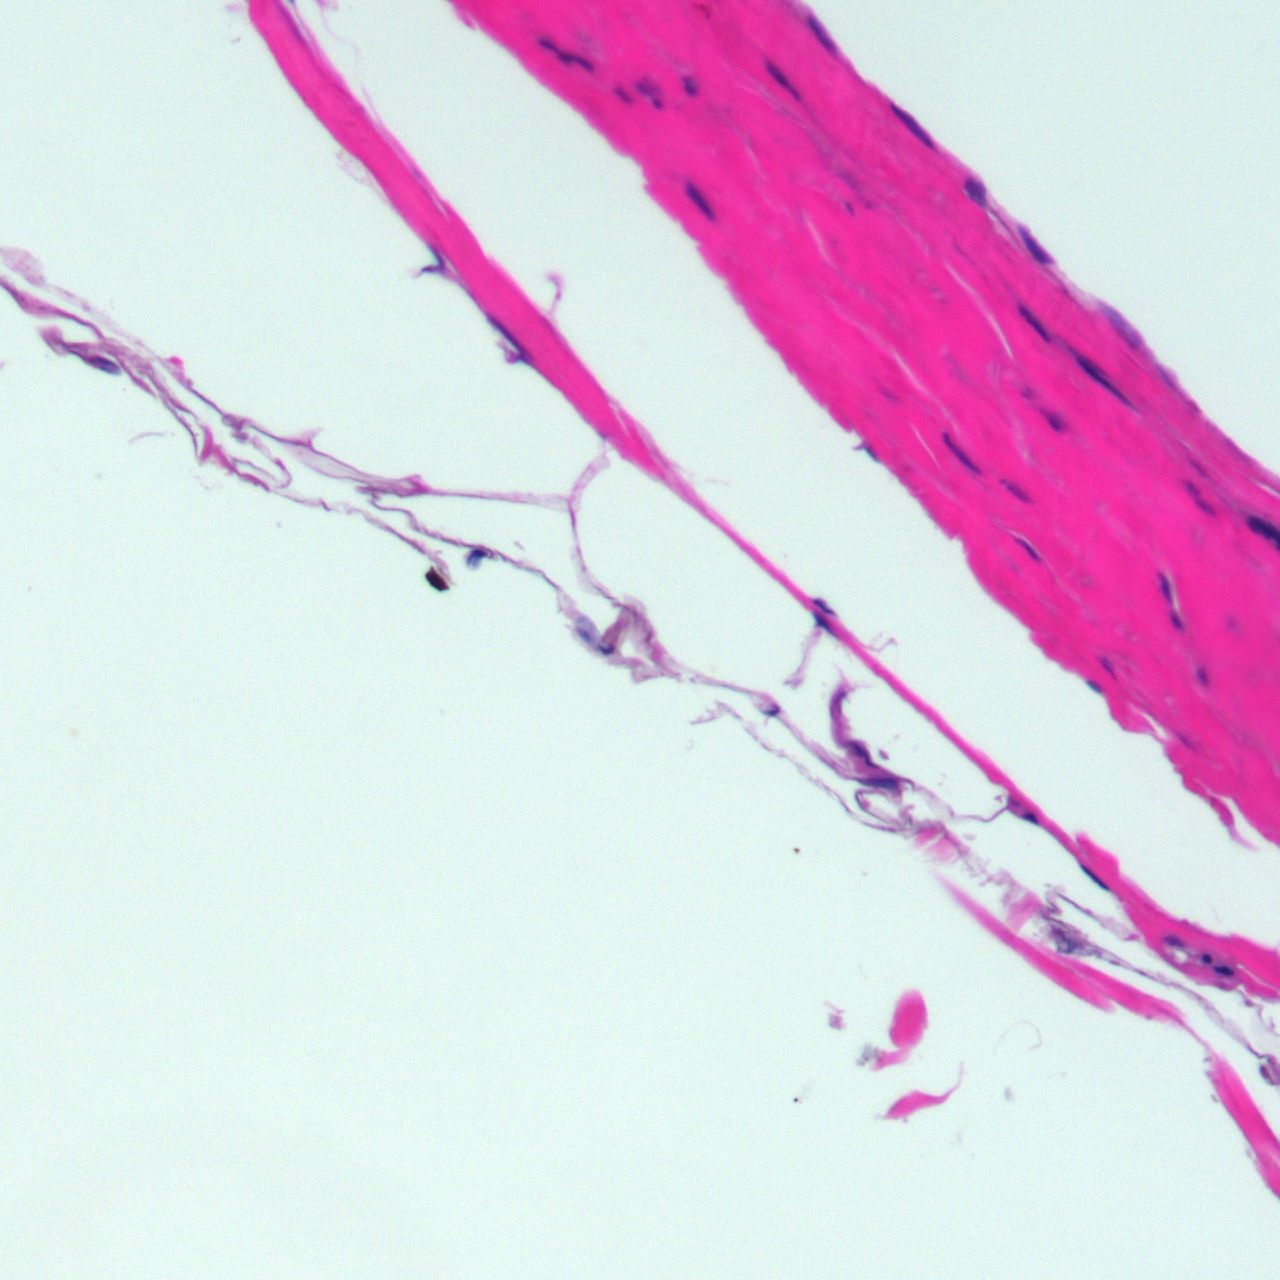dust: (420, 561, 452, 597)
nucleus-HE: (1063, 341, 1141, 420), (537, 27, 595, 83), (887, 98, 937, 150), (796, 8, 844, 60), (1009, 219, 1055, 268), (760, 54, 803, 104), (938, 430, 982, 477), (680, 176, 719, 225), (483, 309, 524, 354), (1014, 300, 1053, 346), (1182, 476, 1219, 520), (1242, 511, 1280, 549), (1075, 858, 1112, 896), (1008, 527, 1046, 564), (847, 734, 881, 772), (632, 75, 666, 113), (998, 474, 1033, 506), (421, 243, 448, 277), (960, 175, 987, 206), (808, 611, 836, 639), (1158, 928, 1189, 954), (1040, 403, 1065, 433), (1096, 652, 1119, 681), (856, 775, 899, 790), (811, 594, 837, 617), (1159, 571, 1173, 602), (1083, 678, 1105, 697), (1194, 662, 1208, 689), (681, 73, 696, 96), (1170, 610, 1183, 631), (1020, 810, 1039, 824), (761, 702, 779, 716), (597, 642, 617, 655), (1213, 966, 1234, 978), (842, 198, 853, 217), (1200, 952, 1213, 964)
